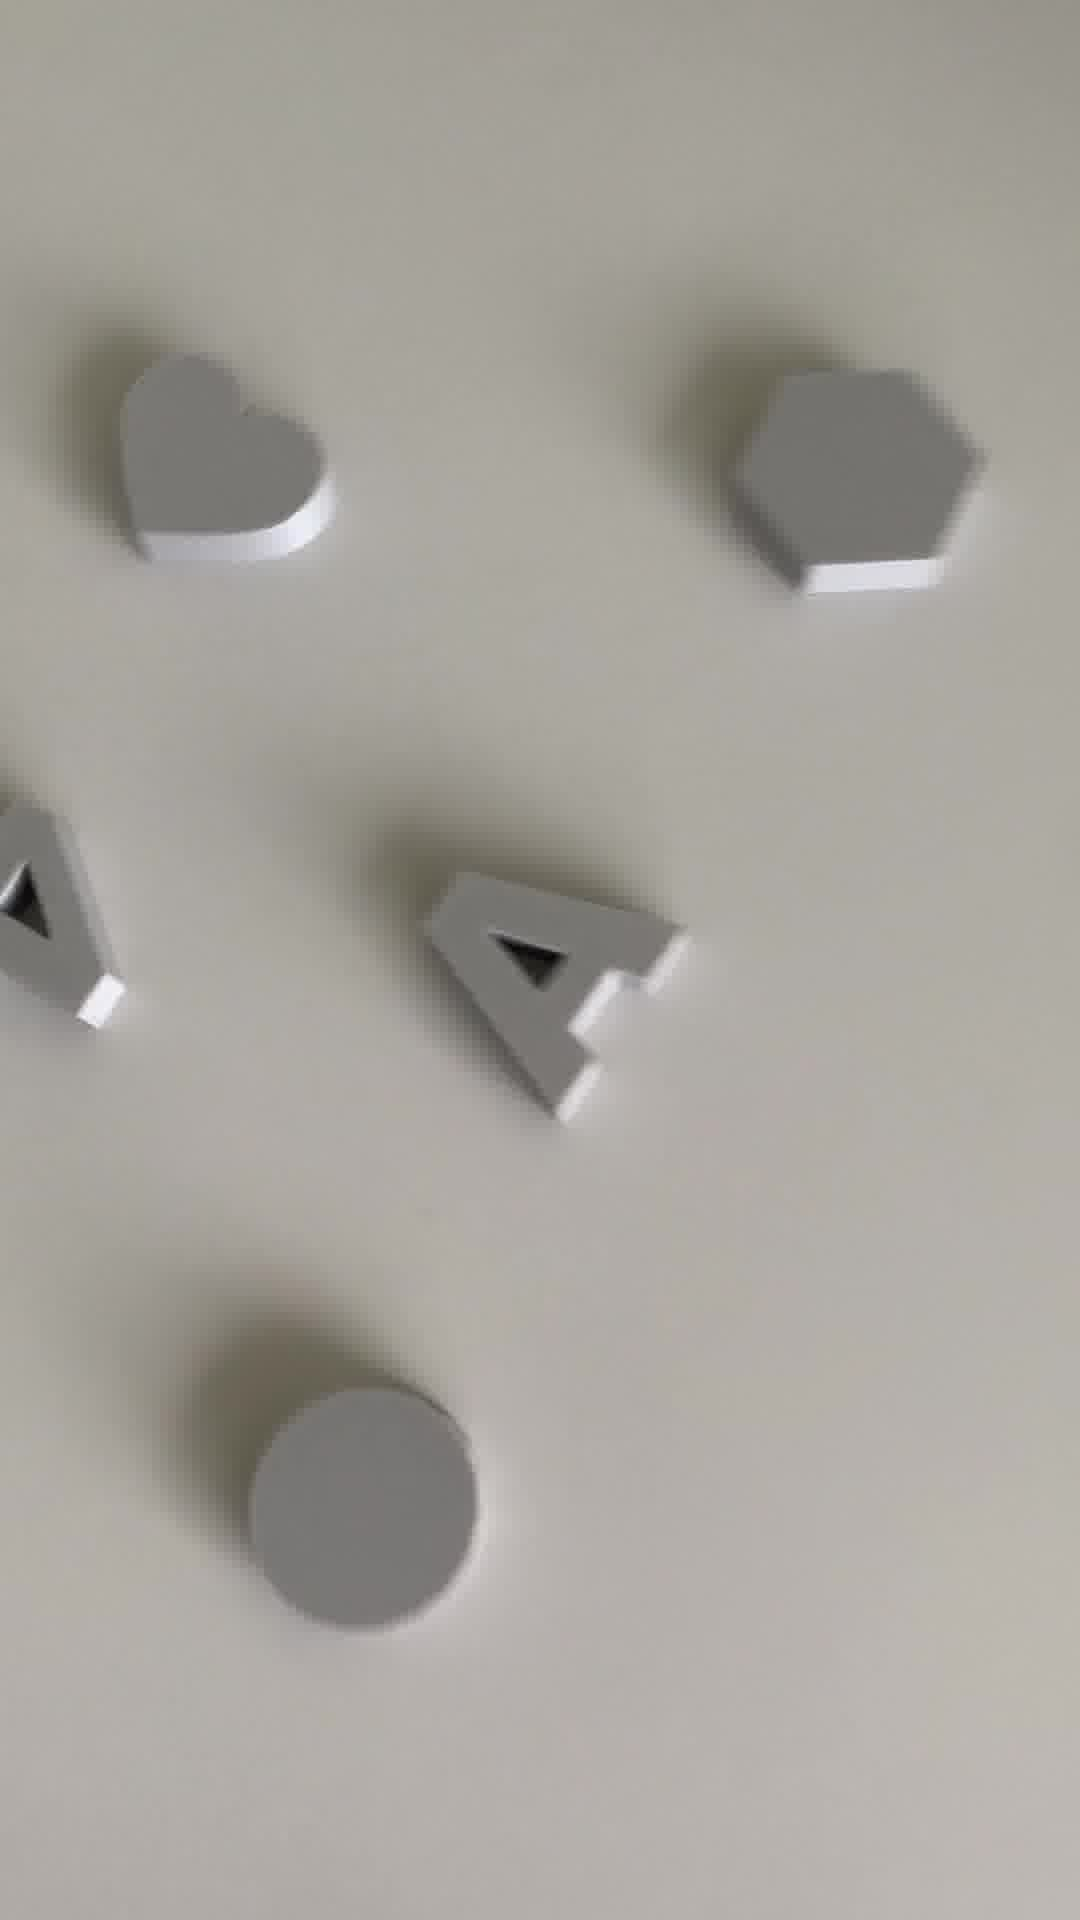Gray A-letter: (433, 848, 684, 1118)
Gray circle: (225, 1364, 504, 1671)
Gray four: (1, 787, 123, 1046)
Gray heart: (116, 336, 334, 568)
Gray hexagon: (709, 344, 980, 603)
